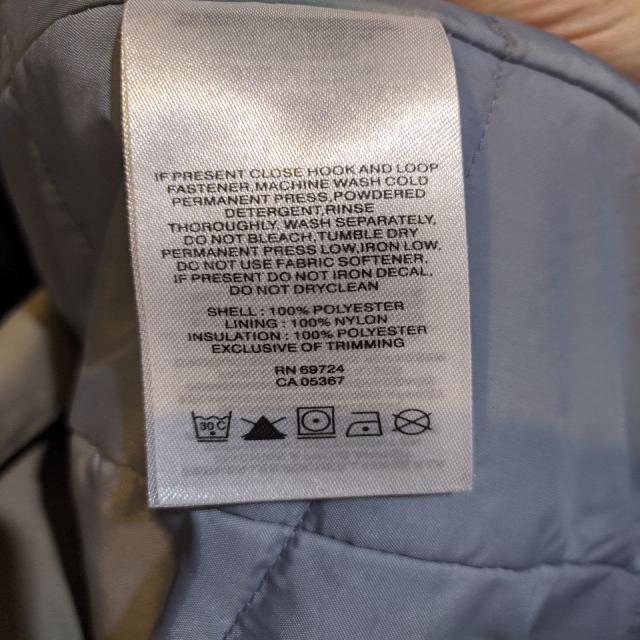30C: (190, 406, 234, 446)
DN_bleach: (239, 409, 289, 445)
DN_dry_clean: (392, 408, 433, 439)
iron_low: (344, 406, 386, 443)
tumble_dry_low: (295, 402, 338, 443)
